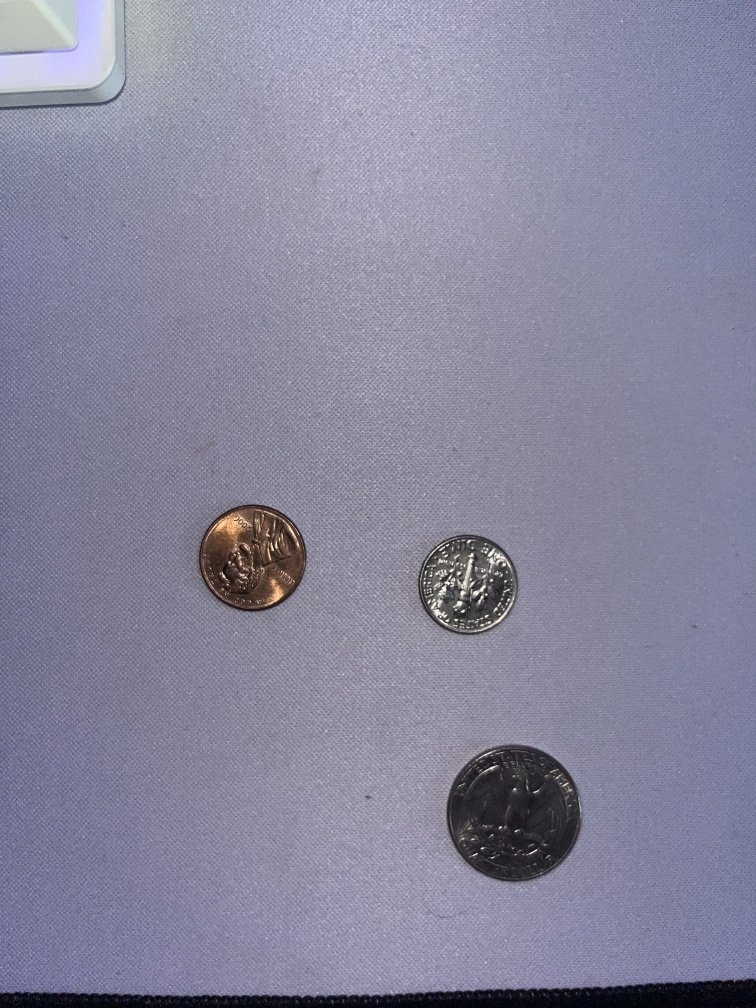dime: (417, 532, 520, 635)
penny: (199, 503, 307, 612)
quarter: (443, 743, 585, 885)
